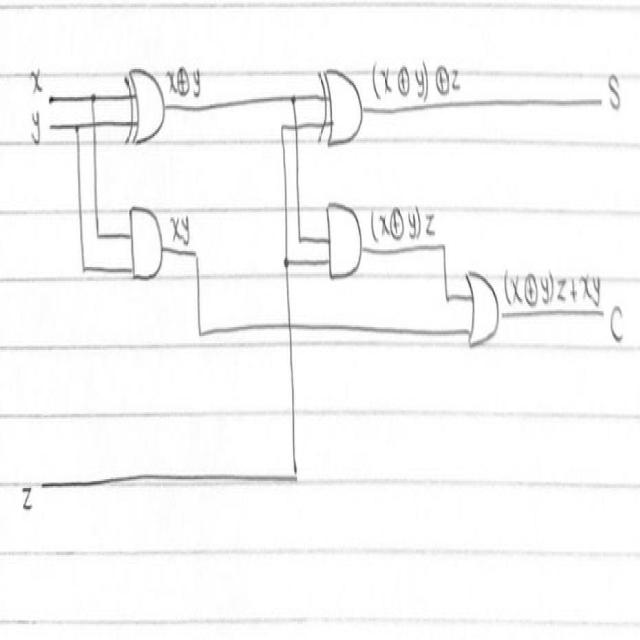AND: (318, 190, 365, 292), (125, 194, 166, 297)
OR: (464, 257, 504, 362)
XOR: (314, 58, 370, 157), (120, 56, 166, 156)
